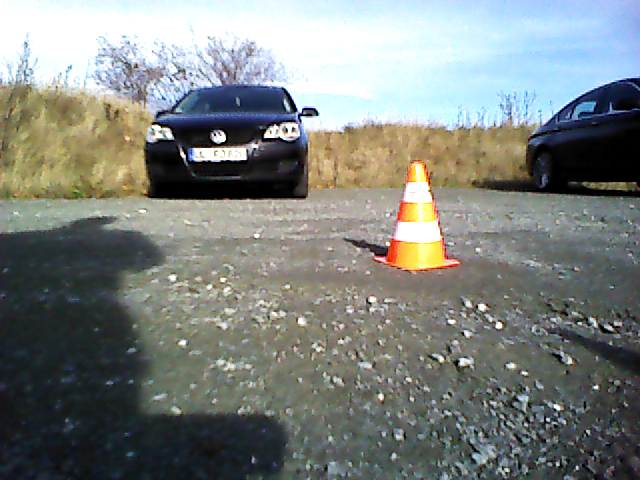orangeconesmall: (381, 162, 457, 269)
